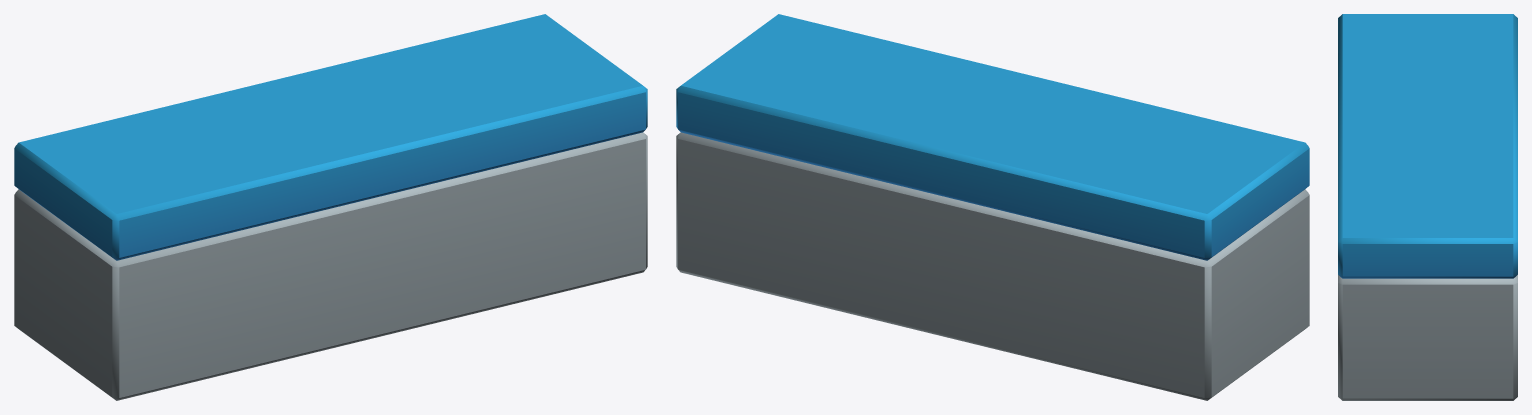
The model's file is platform_6x2x2_blue.glb.
3 views of the same model, side by side, from view 1: azimuth 30°, elevation 25°; view 2: azimuth 150°, elevation 25°; view 3: azimuth 270°, elevation 25° (orthographic). The views are drawn at different scales.
Visible parts, largest first — view 1: platform_6x2x2_blue; view 2: platform_6x2x2_blue; view 3: platform_6x2x2_blue.
Boxes of the visible parts, left/top/right/bottom form: platform_6x2x2_blue: left=14, top=14, right=647, bottom=400; platform_6x2x2_blue: left=676, top=14, right=1309, bottom=400; platform_6x2x2_blue: left=1338, top=14, right=1517, bottom=400.
Bounding box in the file's own units: 6 × 2 × 2.
1 material, 1 textured.
